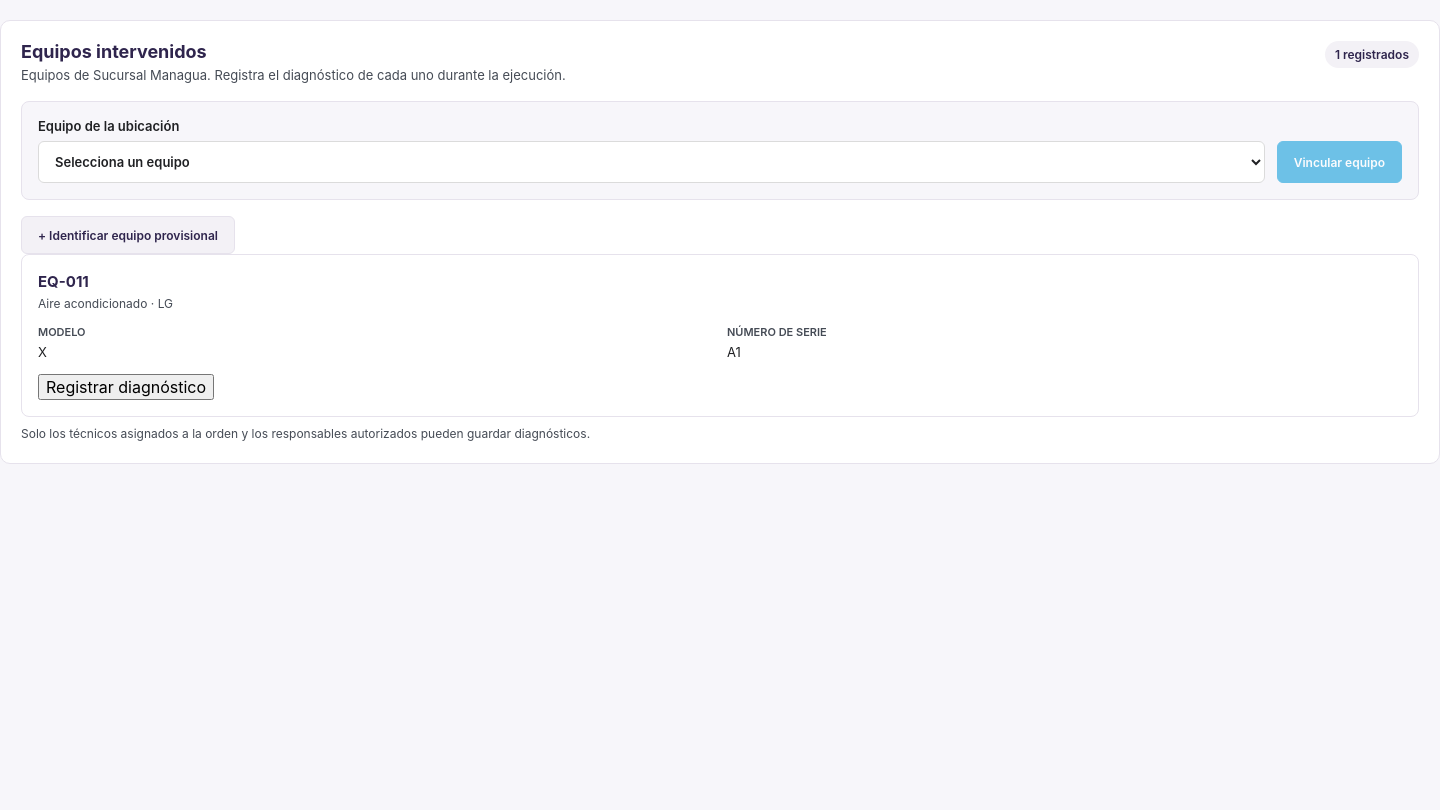
Scenario: Equipos de orden según Figma › guarda diagnóstico y presenta el resultado
Check: the text "EQ-011" is shown, box top-left (38, 272), bottom-right (89, 291)
Click the button "Registrar diagnóstico". click: (126, 387)
box: top-left (38, 374), bottom-right (214, 400)
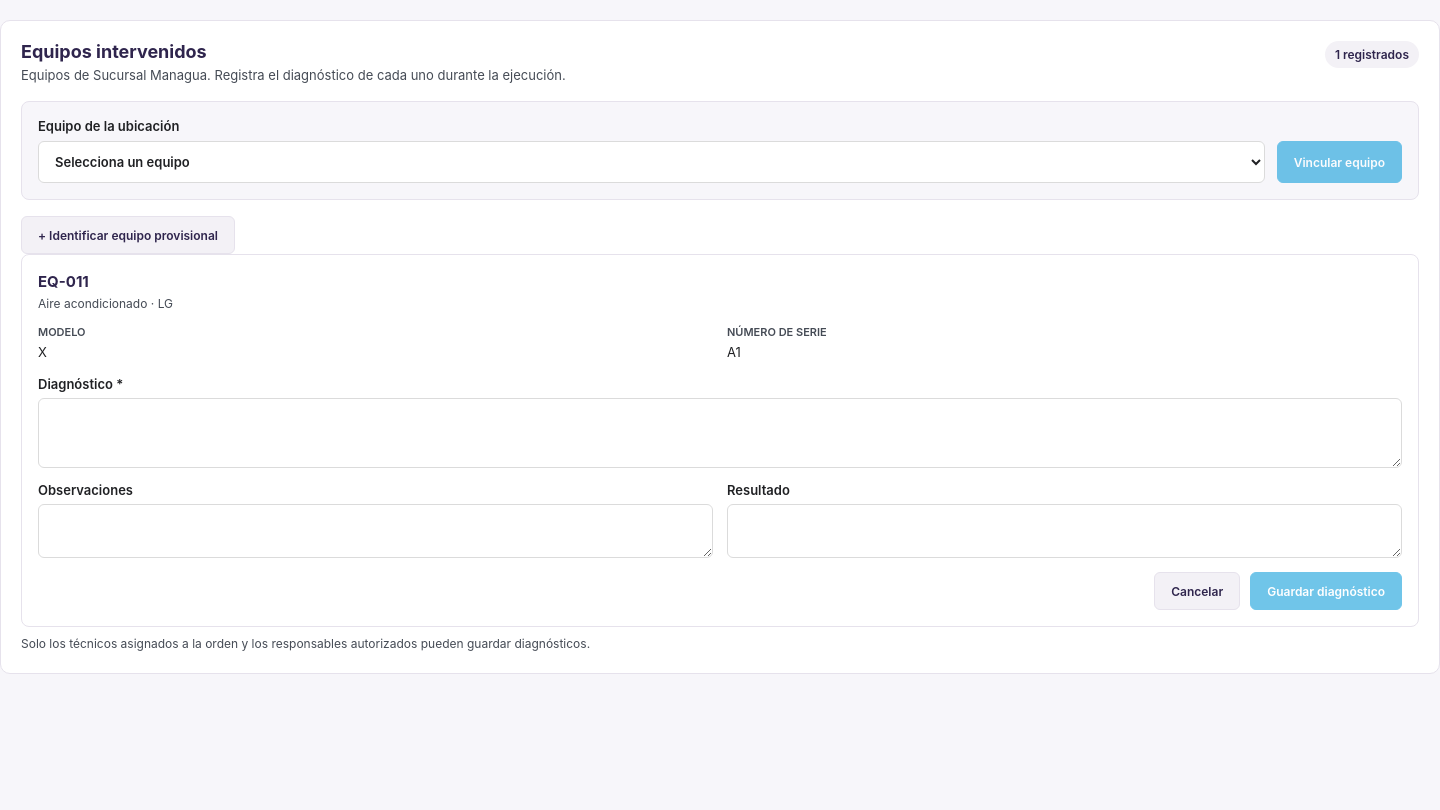
Type "Compresor está averiado" into the text box labelled "Diagnóstico". click: (720, 433)
box: top-left (38, 398), bottom-right (1402, 468)
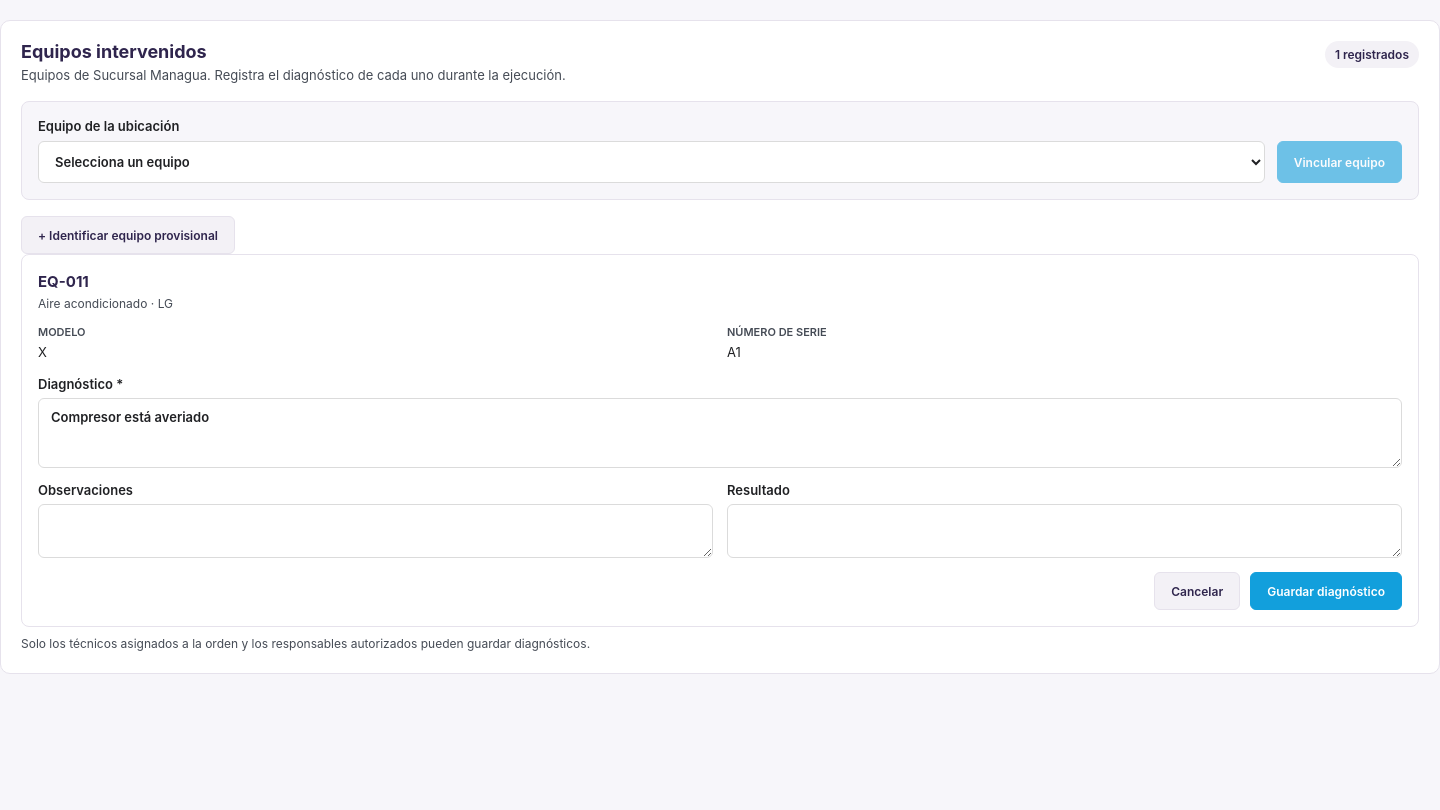
Click the button "Guardar diagnóstico". click: (1326, 591)
box: top-left (1250, 572), bottom-right (1402, 610)
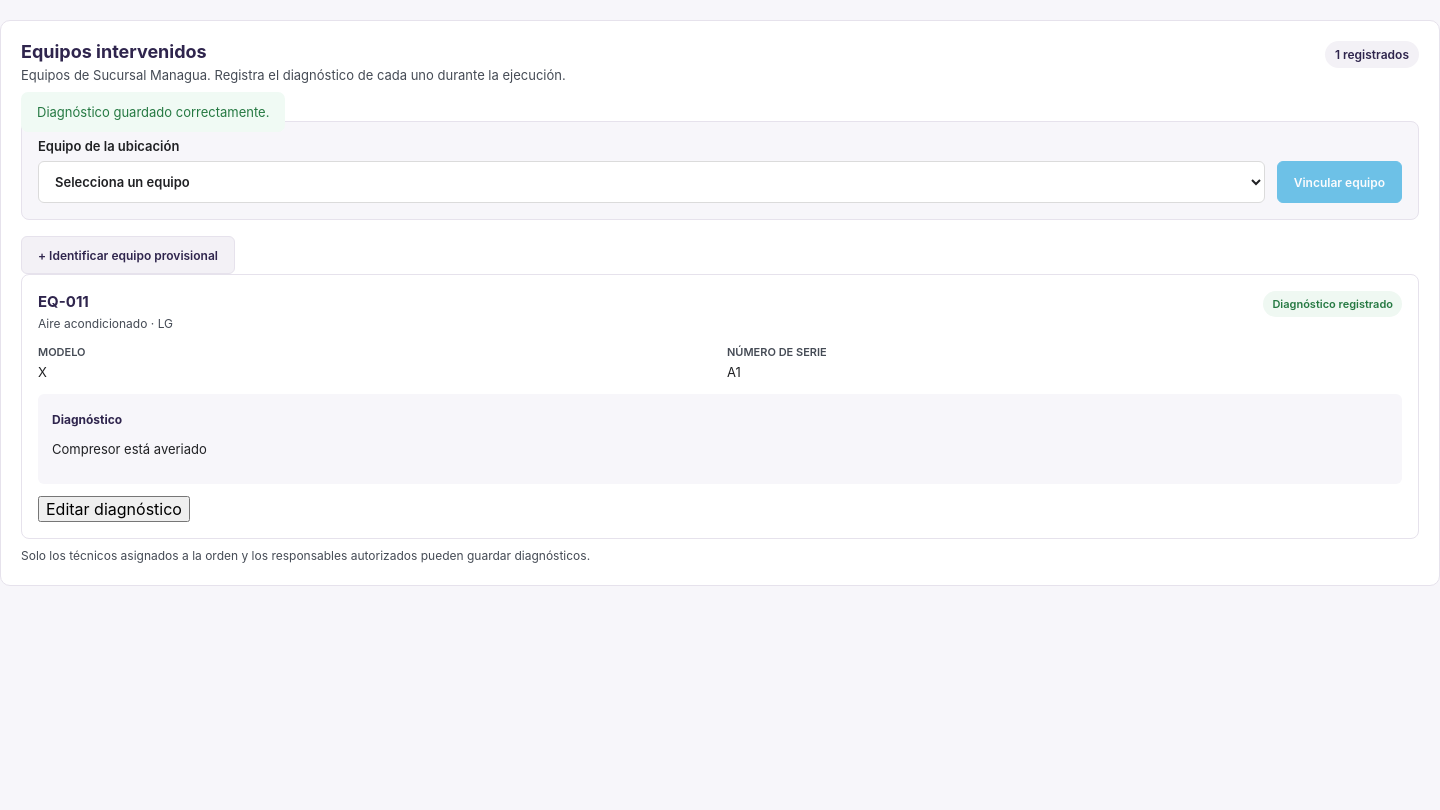
Check: the text "Diagnóstico guardado correctamente." is shown, box top-left (21, 92), bottom-right (286, 132)
